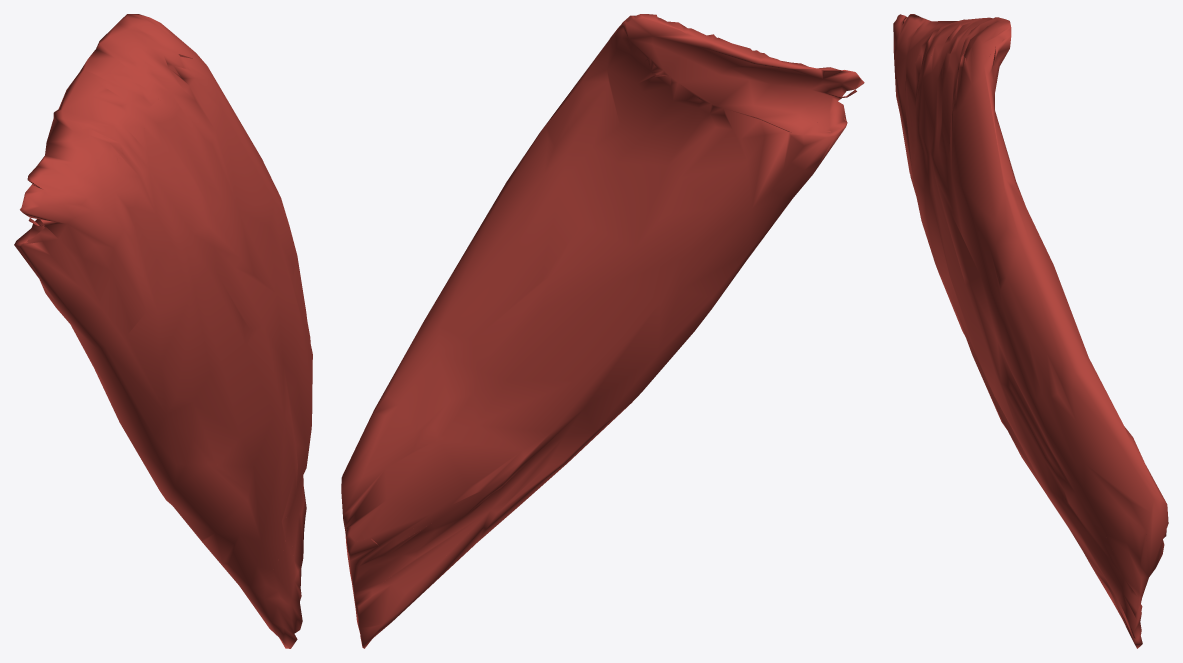
The model's file is musculos-pectineus-muscle-l.glb.
The picture shows the model from 3 angles, left to right: view 1: azimuth 30°, elevation 25°; view 2: azimuth 150°, elevation 25°; view 3: azimuth 270°, elevation 25°; orthographic projection. The views are drawn at different scales.
Visible parts, largest first — view 1: Pectineus muscle.l; view 2: Pectineus muscle.l; view 3: Pectineus muscle.l.
Part boxes in pixels (x1=…): Pectineus muscle.l: x1=14, y1=14, x2=312, y2=648; Pectineus muscle.l: x1=341, y1=14, x2=864, y2=648; Pectineus muscle.l: x1=893, y1=14, x2=1168, y2=648.
Bounding box in the file's own units: 0.0828 × 0.1312 × 0.0606.
